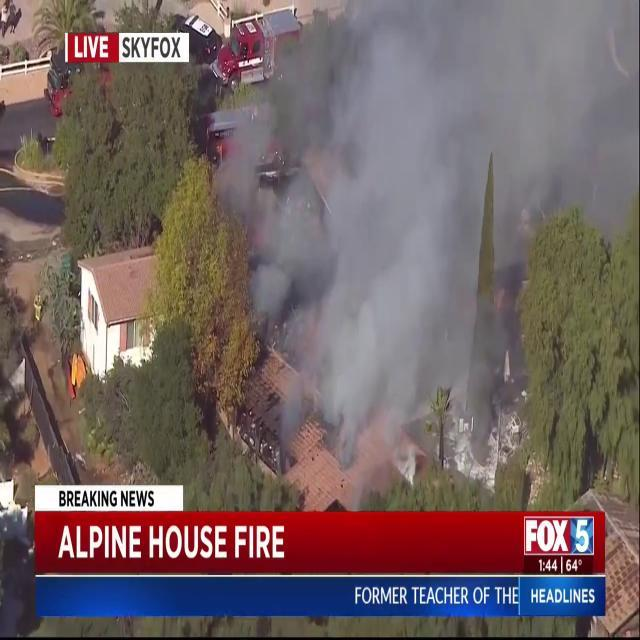Smoke: (229, 0, 497, 501), (504, 0, 634, 263)
